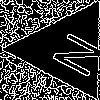N: (41, 24, 100, 80)
